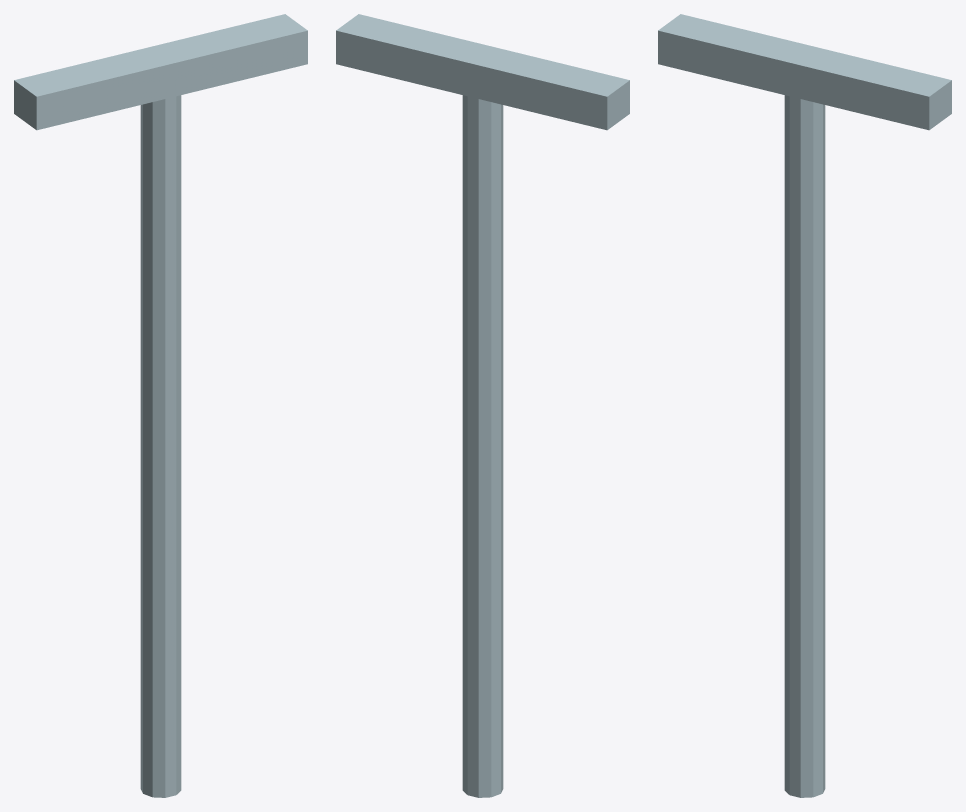
File: cableway-support.glb
The picture shows the model from 3 angles, left to right: view 1: azimuth 30°, elevation 25°; view 2: azimuth 150°, elevation 25°; view 3: azimuth 330°, elevation 25°; orthographic projection.
Parts seen in each view (by area): view 1: cableway-support; view 2: cableway-support; view 3: cableway-support.
Part boxes in pixels (x1,y1,x2,y2): cableway-support: [14, 14, 307, 797]; cableway-support: [336, 14, 629, 797]; cableway-support: [658, 14, 951, 797].
Size of the model in its own units: 0.3868 by 1 by 0.056.
